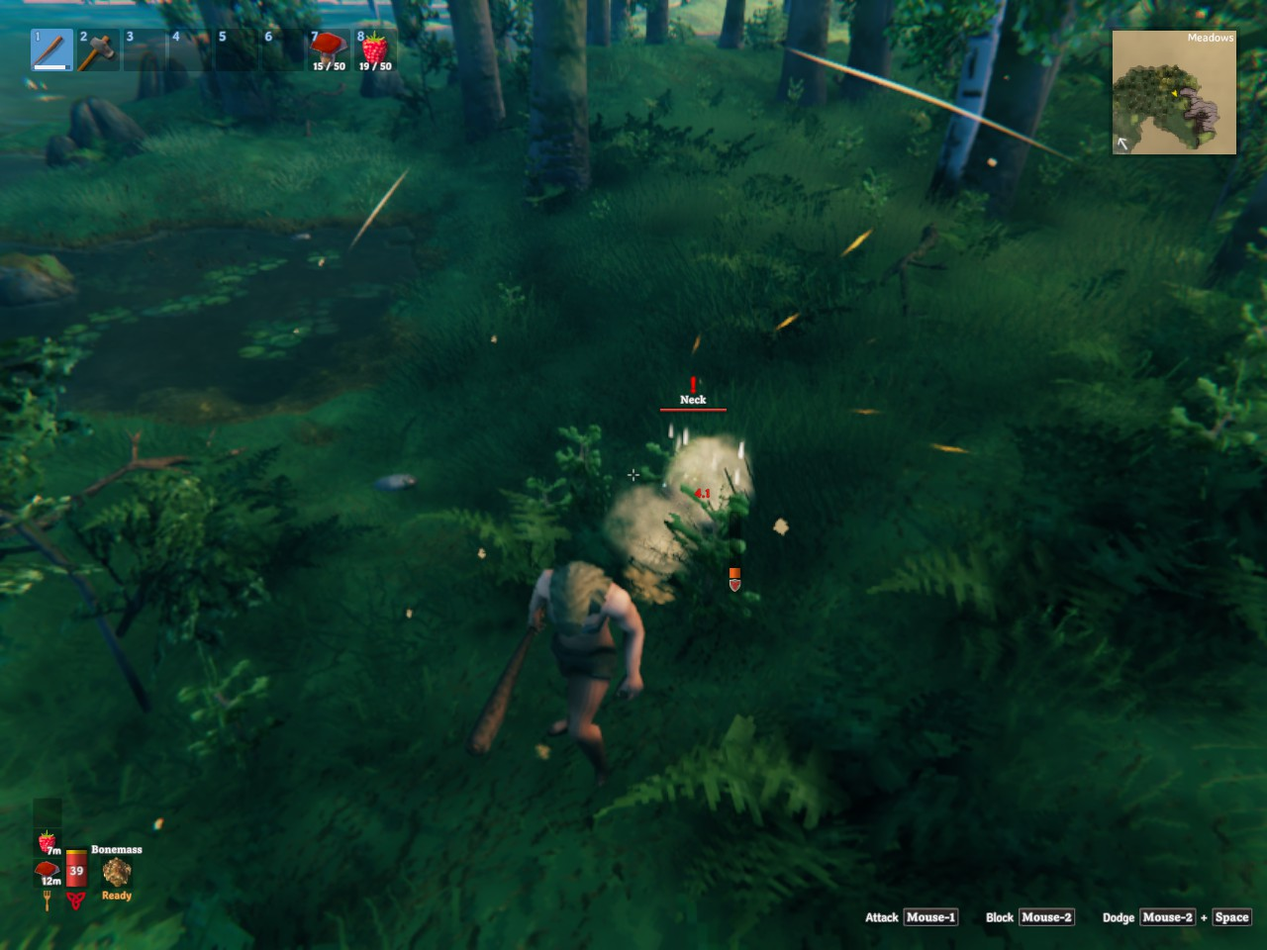Branch: (72, 433, 189, 502), (881, 226, 945, 315)
Flint: (374, 473, 416, 490)
